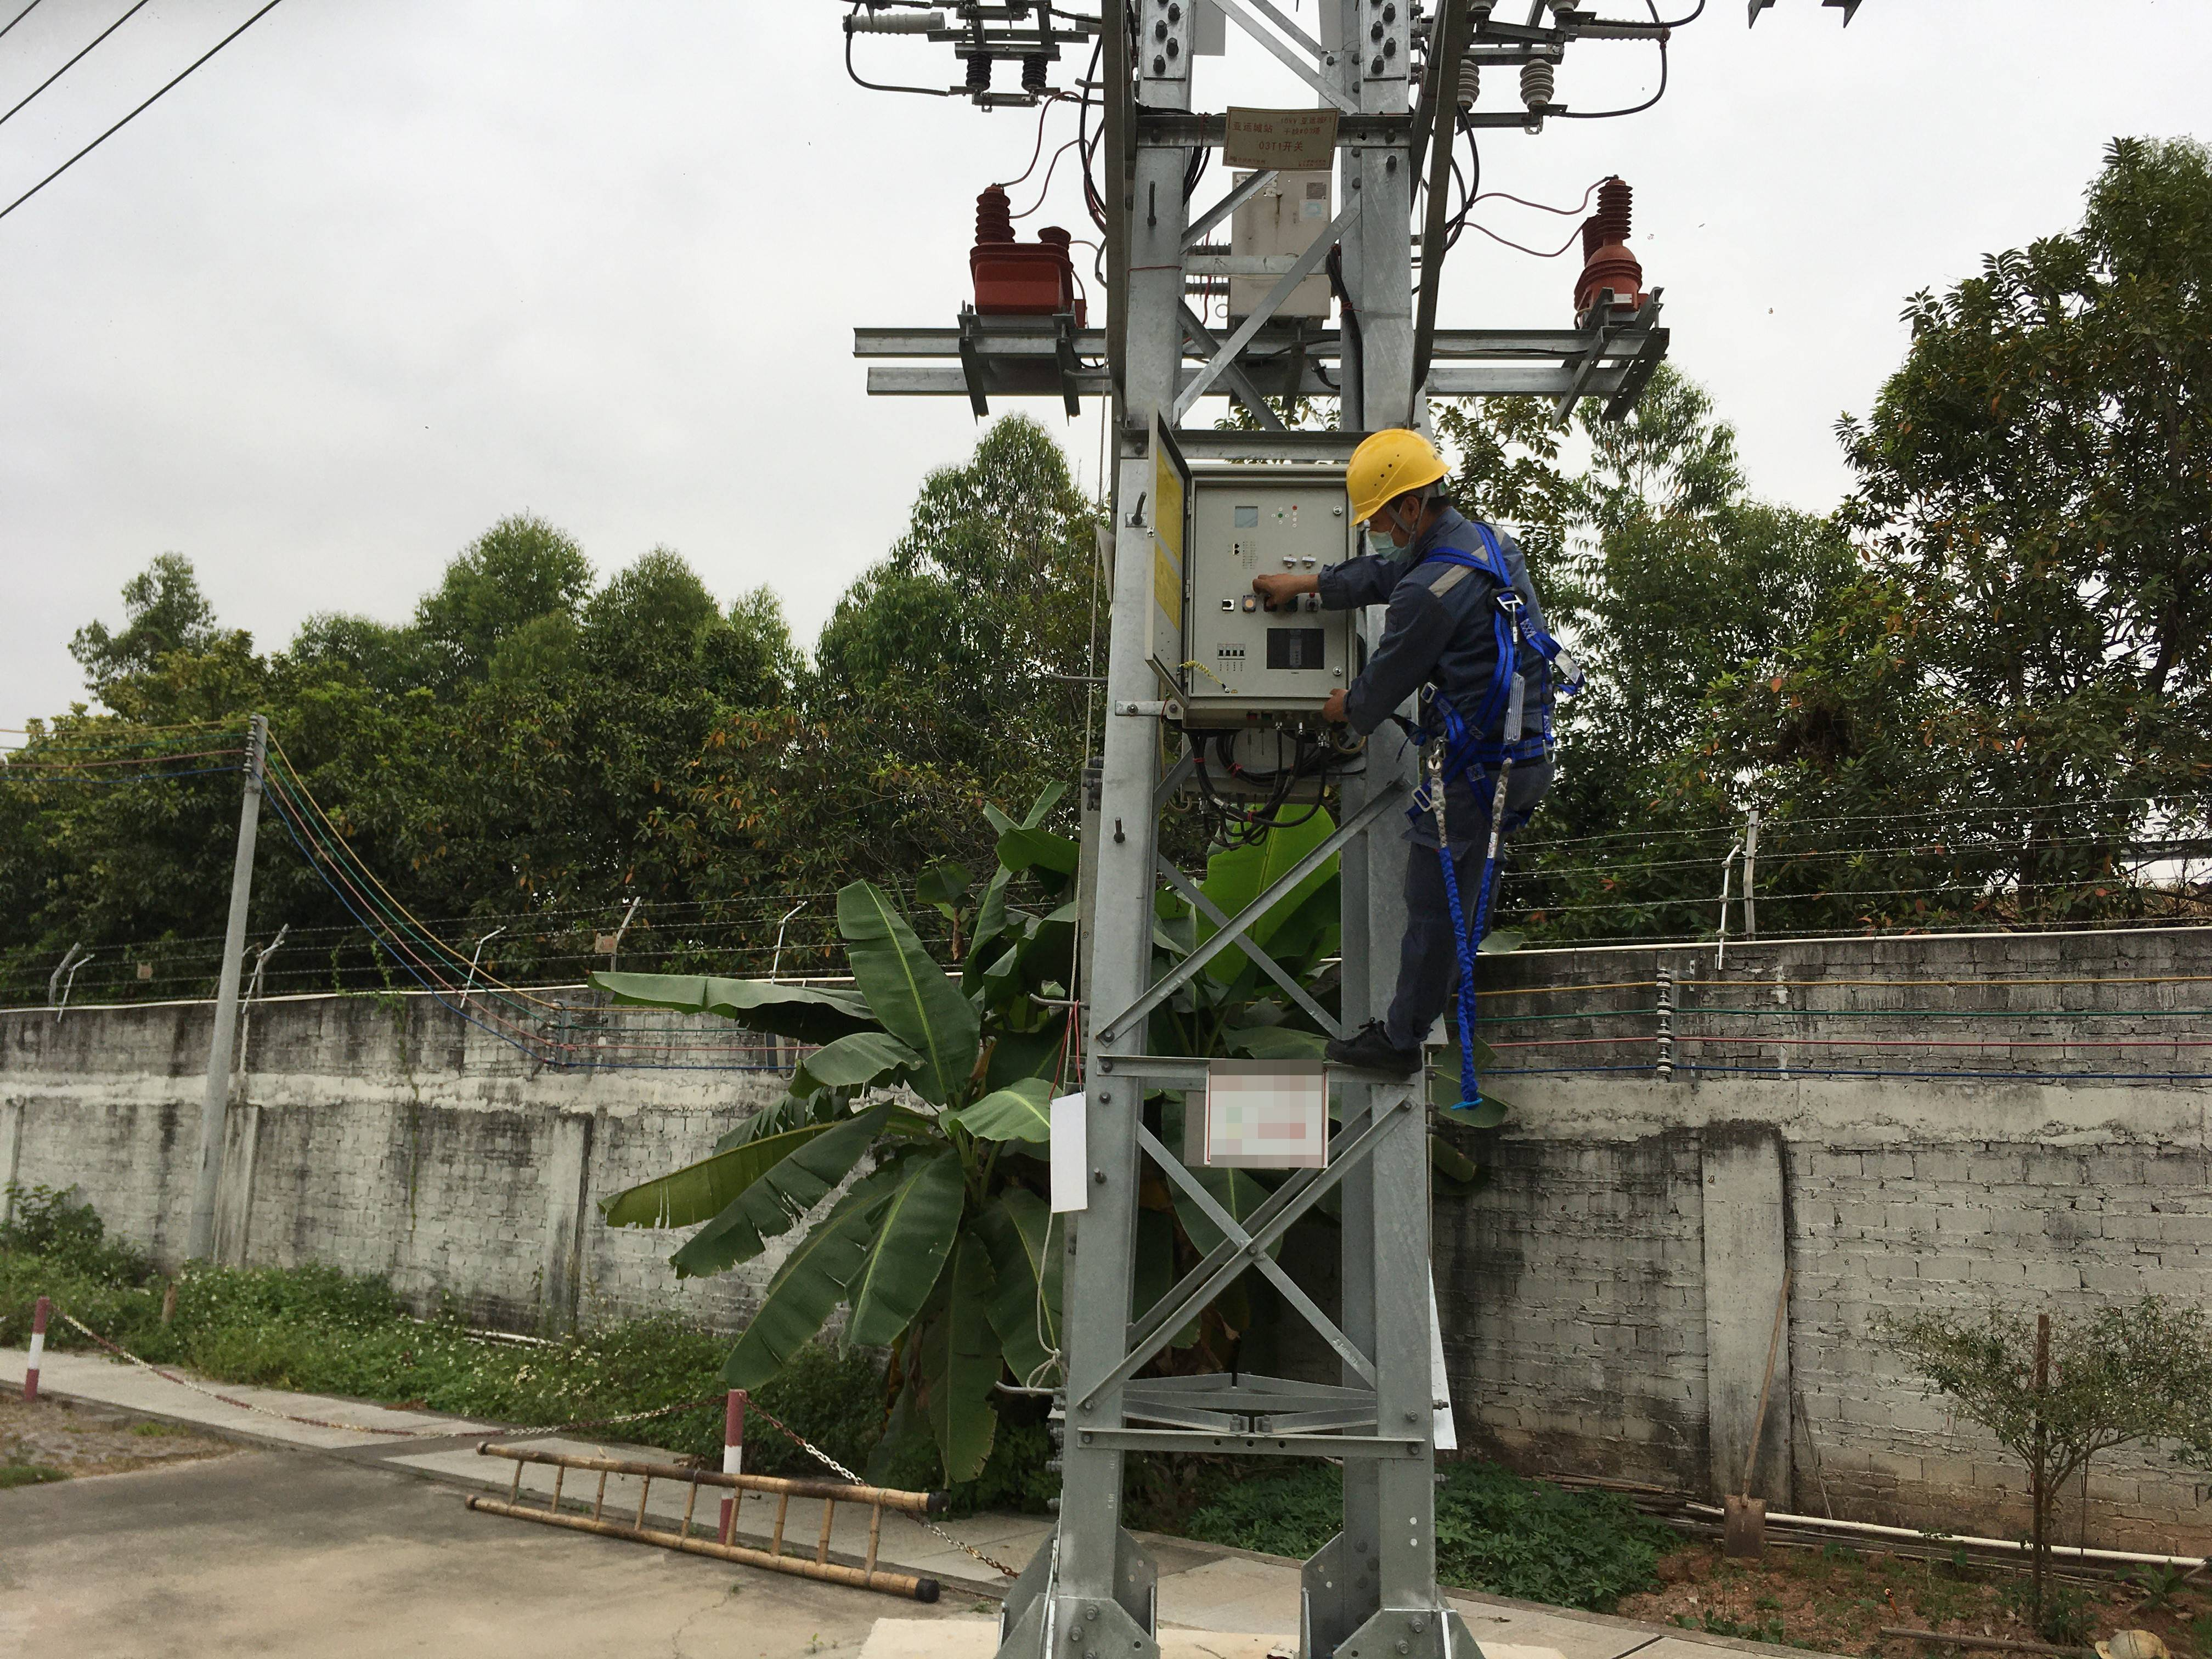downsuit: (1393, 749, 1536, 1035)
upsuit: (1312, 537, 1569, 748)
